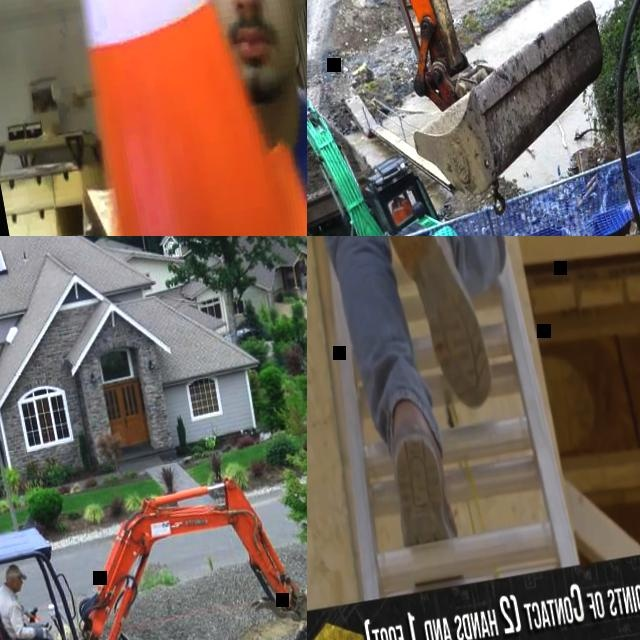NO-Hardhat: (3, 561, 25, 580)
NO-Mask: (220, 2, 296, 98), (10, 583, 22, 592)
NO-Safety Vest: (274, 106, 307, 236), (0, 584, 28, 640)
Person: (307, 236, 566, 599), (154, 0, 307, 236), (0, 555, 71, 640), (389, 192, 412, 223)
Safety Cone: (0, 0, 307, 236)
Safety Vest: (390, 196, 409, 221)
machinery: (327, 0, 640, 236), (0, 464, 307, 640), (307, 32, 471, 236)
